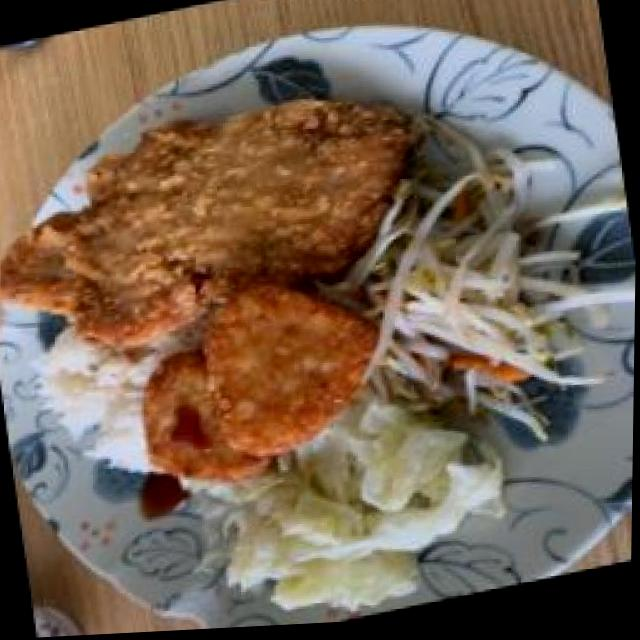chinese_cabbage: (236, 421, 473, 605)
fried_chicken: (0, 85, 411, 365)
mung_bean_sprouts: (385, 156, 598, 442)
rice: (39, 329, 151, 486)
triangle_hash_brown: (132, 272, 395, 495)
